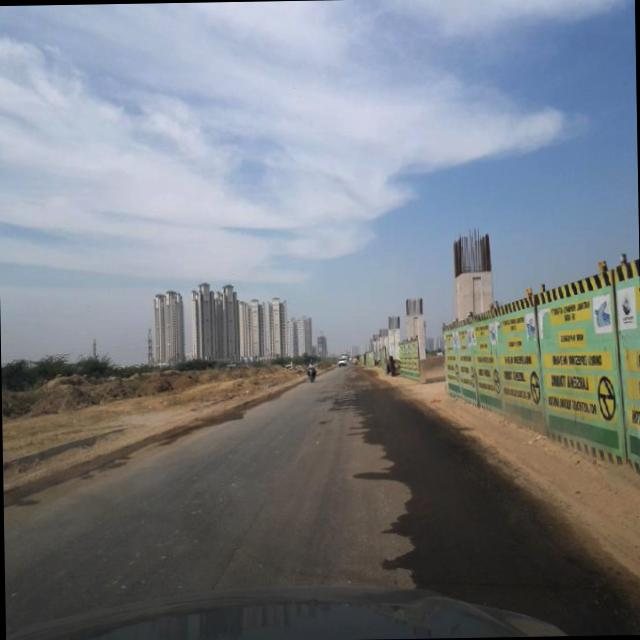crack: (216, 470, 283, 587)
